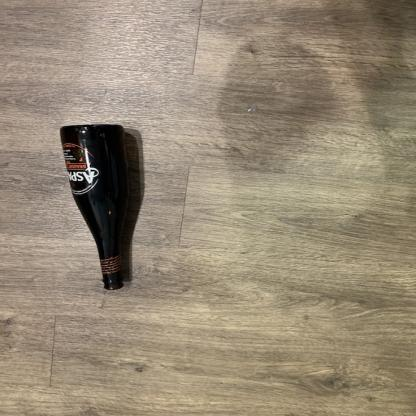trash: (57, 125, 133, 296)
